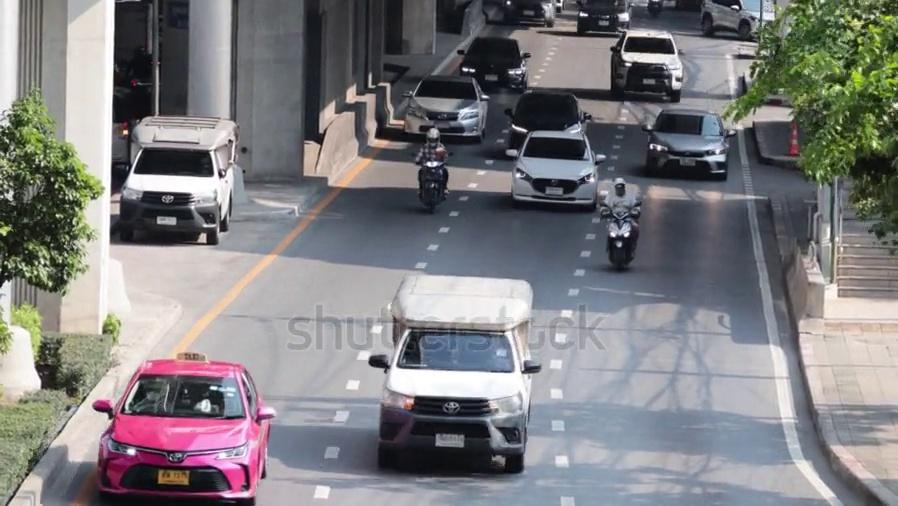rider: (601, 176, 641, 257), (413, 127, 449, 199)
with_helmate: (424, 129, 440, 146), (613, 179, 626, 197)
